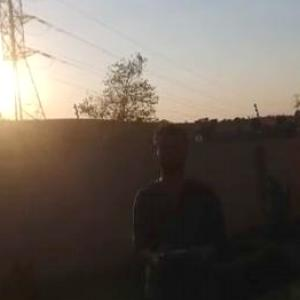follow: (128, 118, 224, 299)
